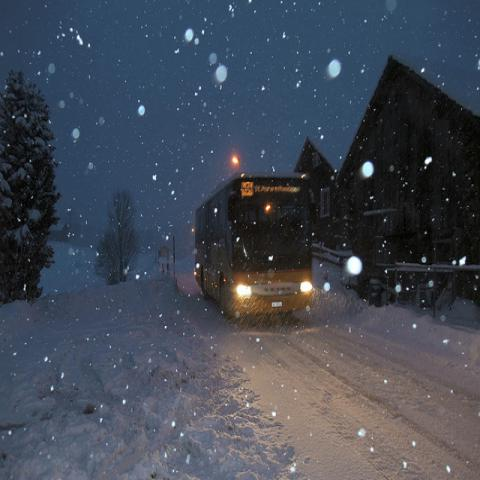bus: (192, 175, 315, 329)
